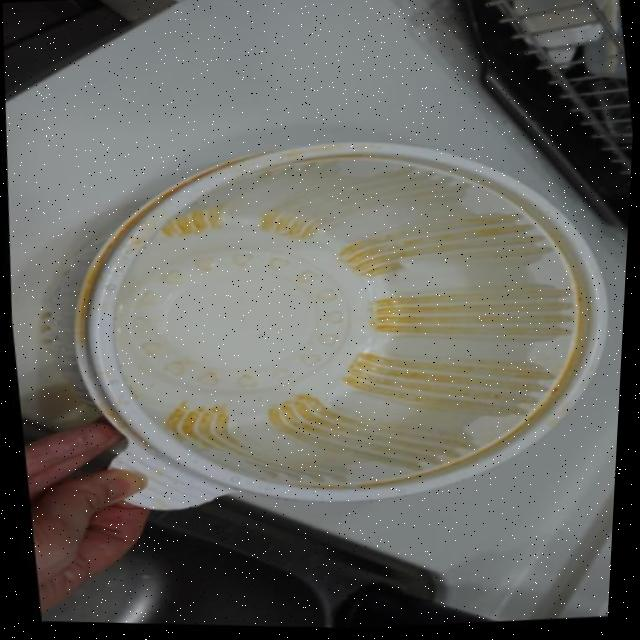disposable: (48, 102, 632, 542)
